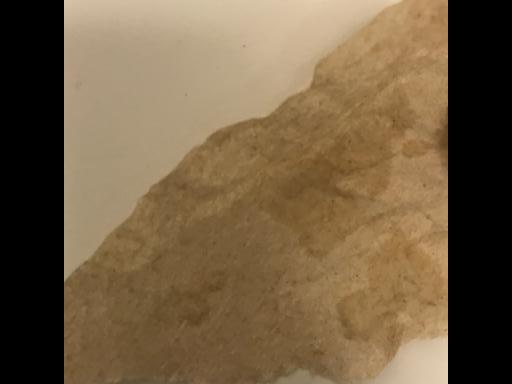trash: (68, 6, 448, 382)
